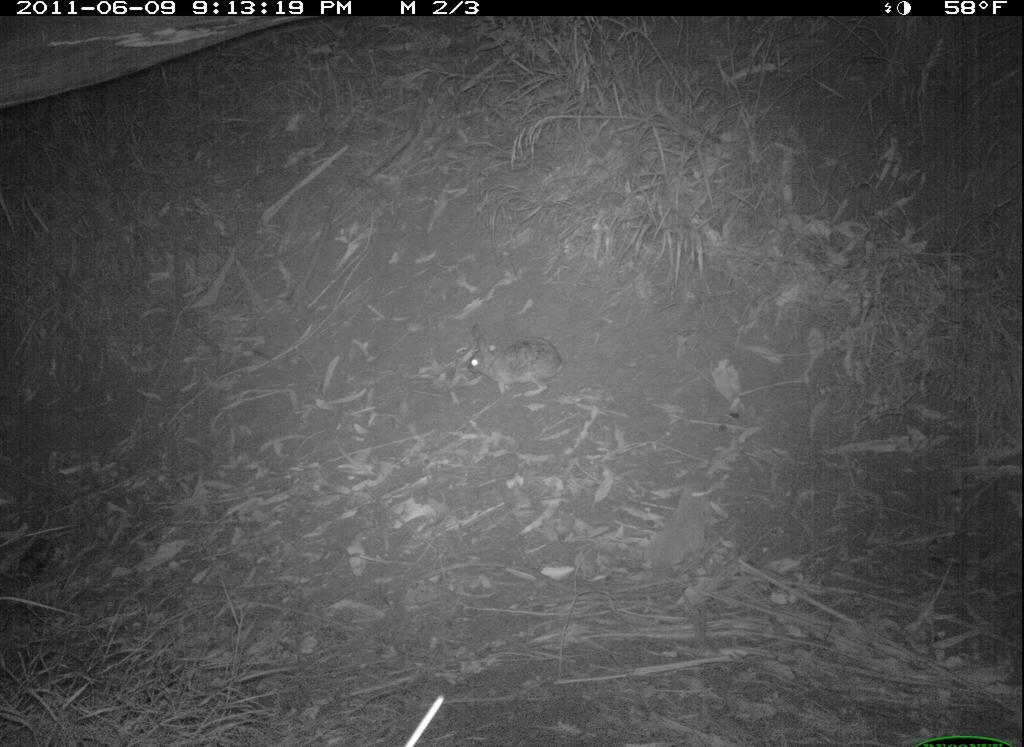rabbit: (463, 322, 578, 401)
